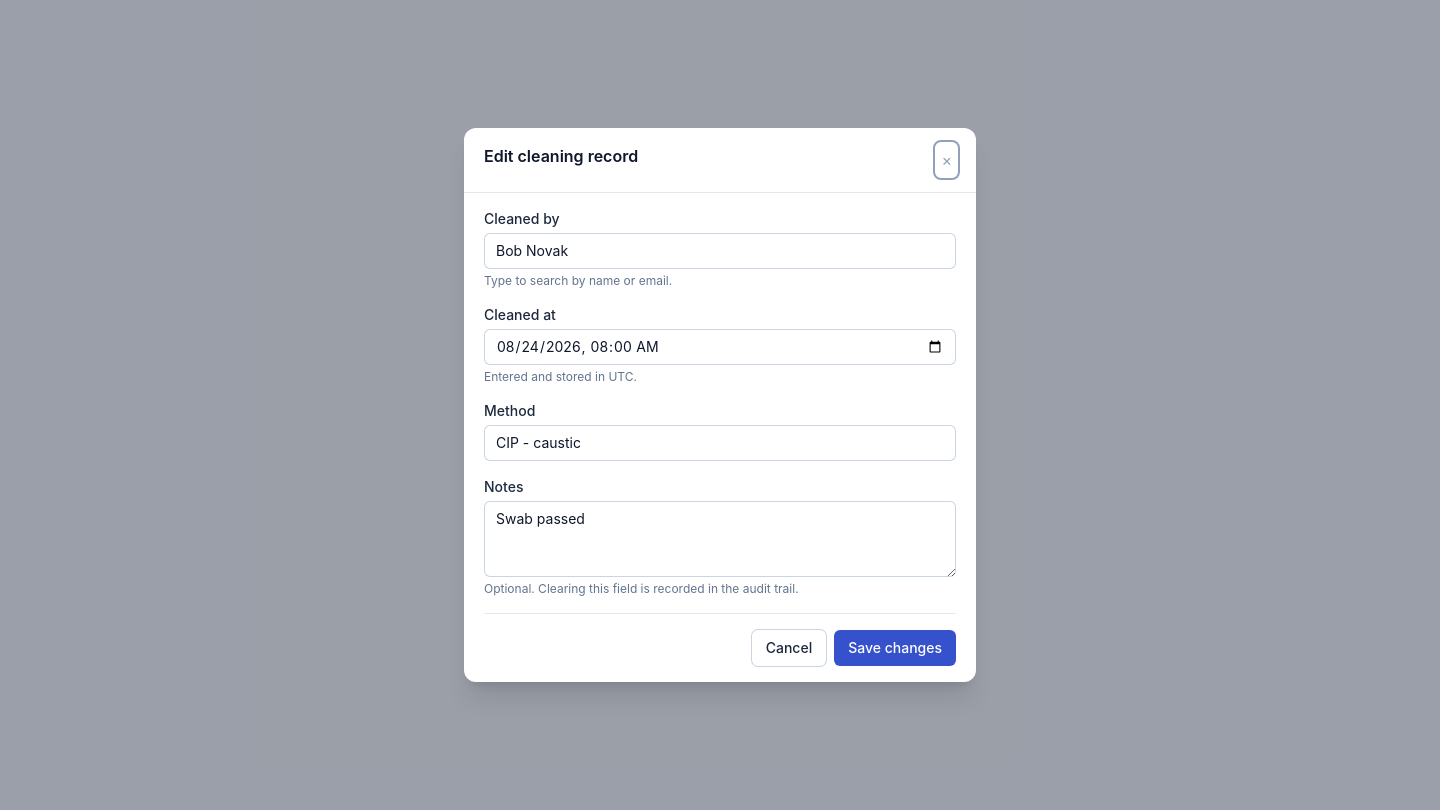
Test: RecordFormDialog › falls back to a form-level alert when the server error names no field
The image size is (1440, 810).
In the field labelled "Method": (720, 443) x1=484 y1=425 x2=956 y2=461, type "SIP"
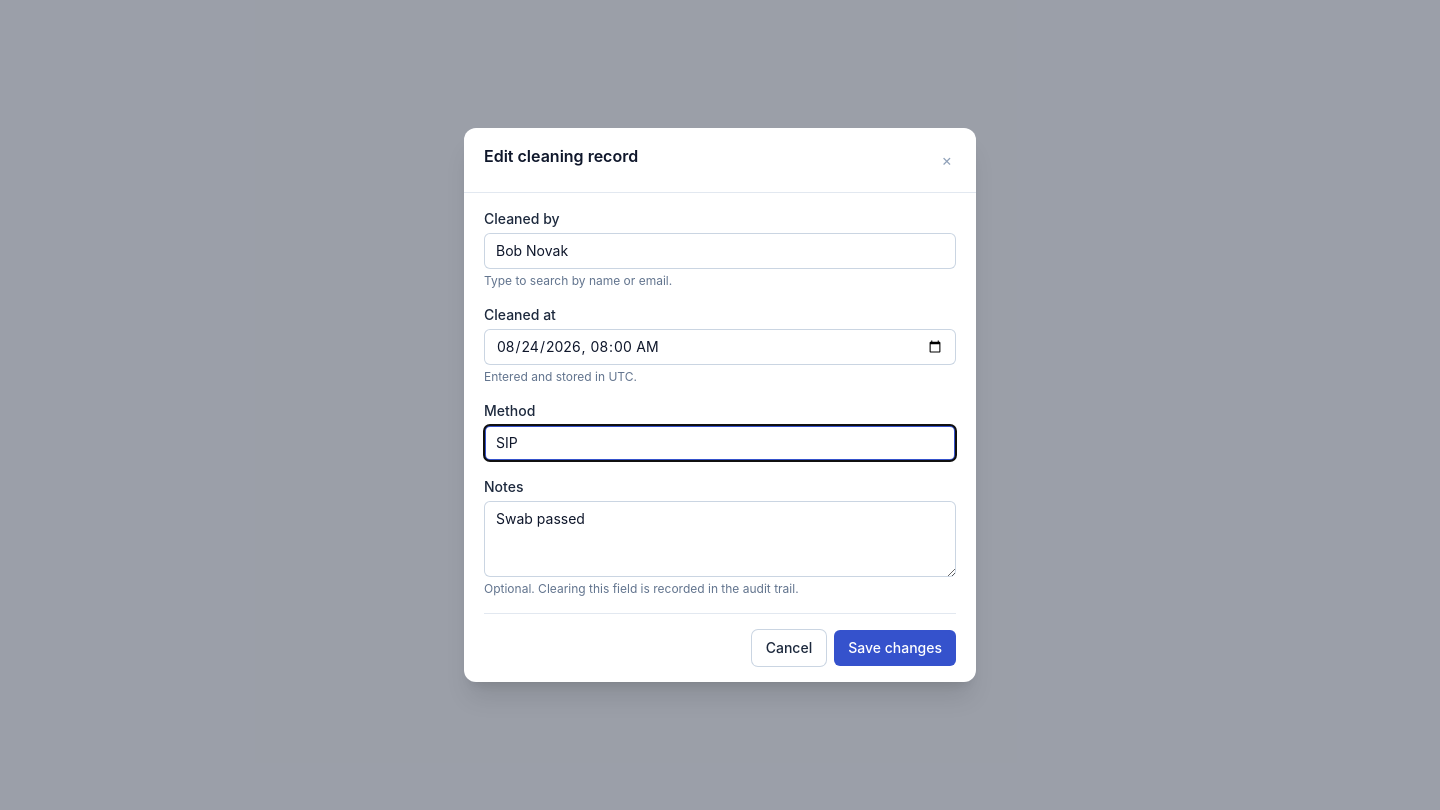
Click the button "Save changes": (895, 648) x1=834 y1=630 x2=956 y2=666
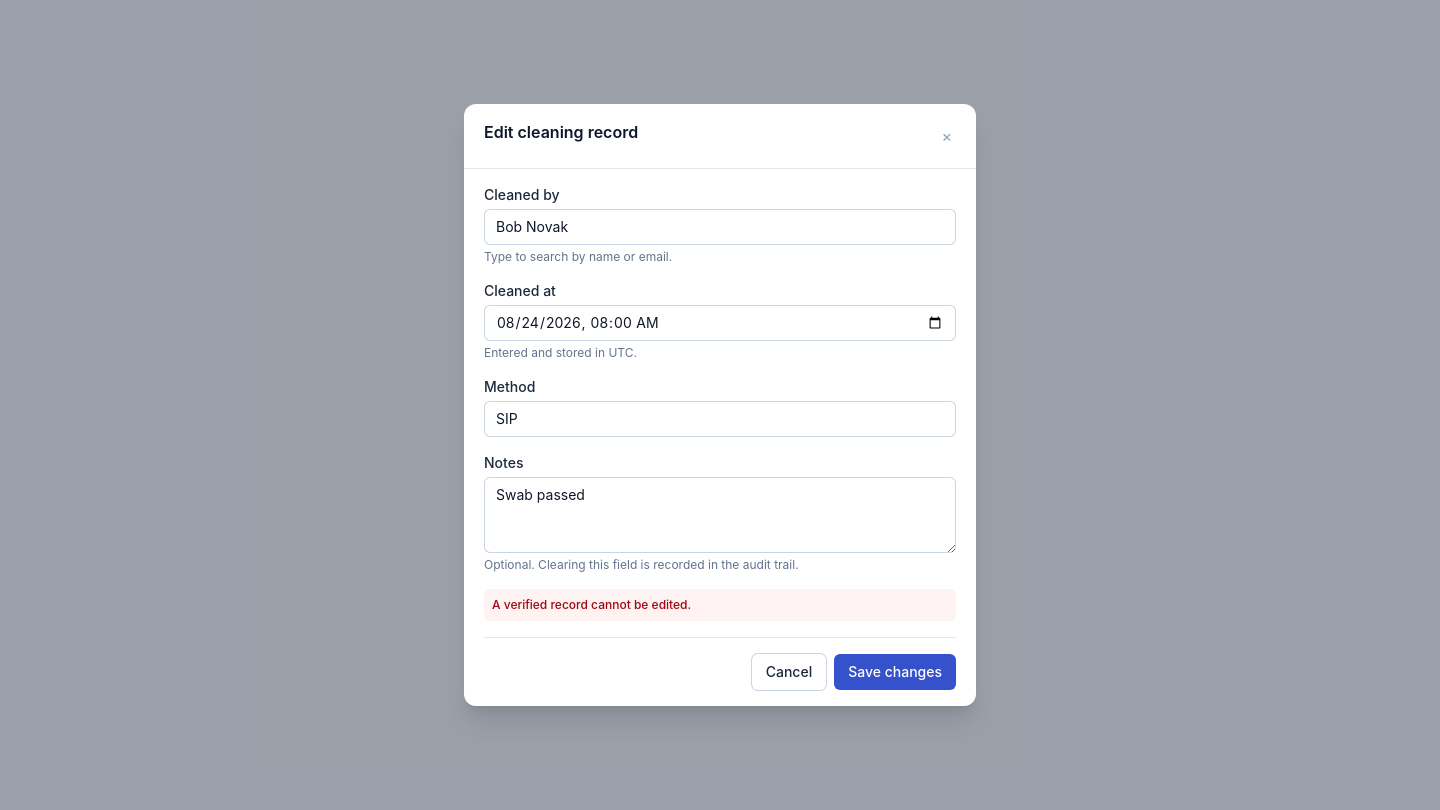
Expected: the message reads "A verified record cannot be edited.", x1=492 y1=597 x2=691 y2=612
